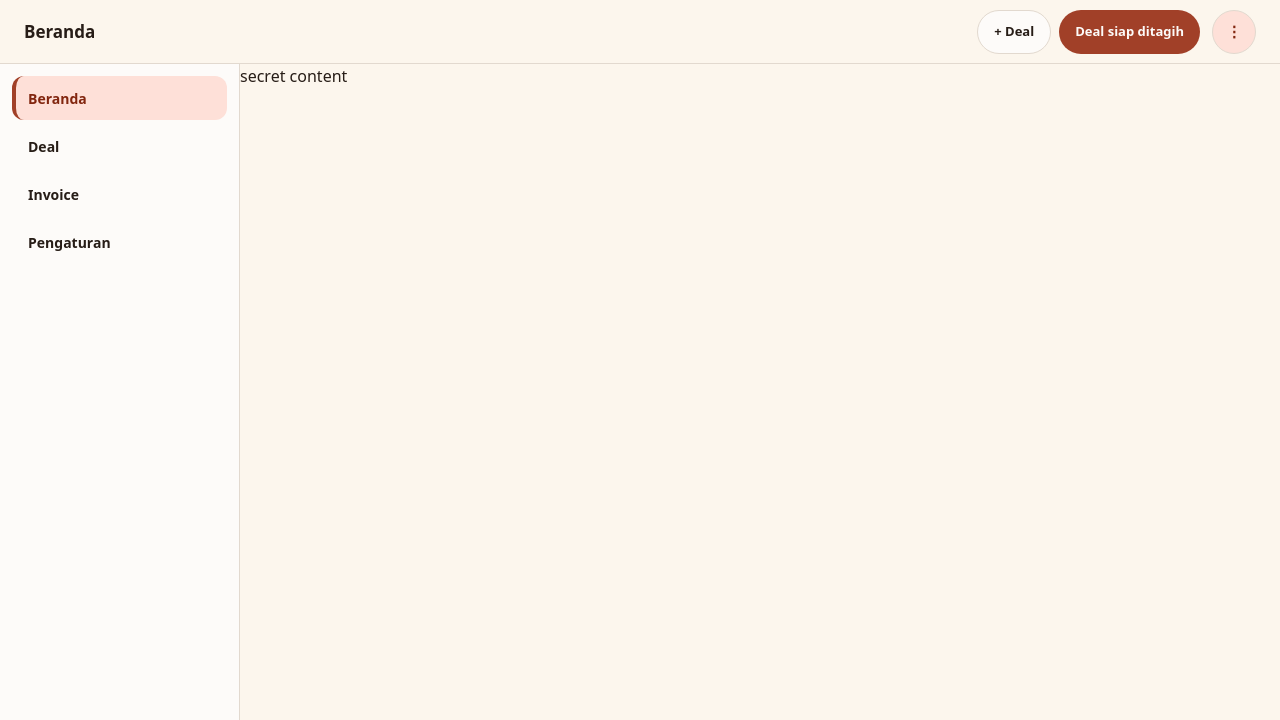
Scenario: (app) layout auth guard › passes the authenticated session's email to the shell's account menu
Click the button named "Menu akun" at (1234, 32), box x1=1212 y1=10 x2=1256 y2=54
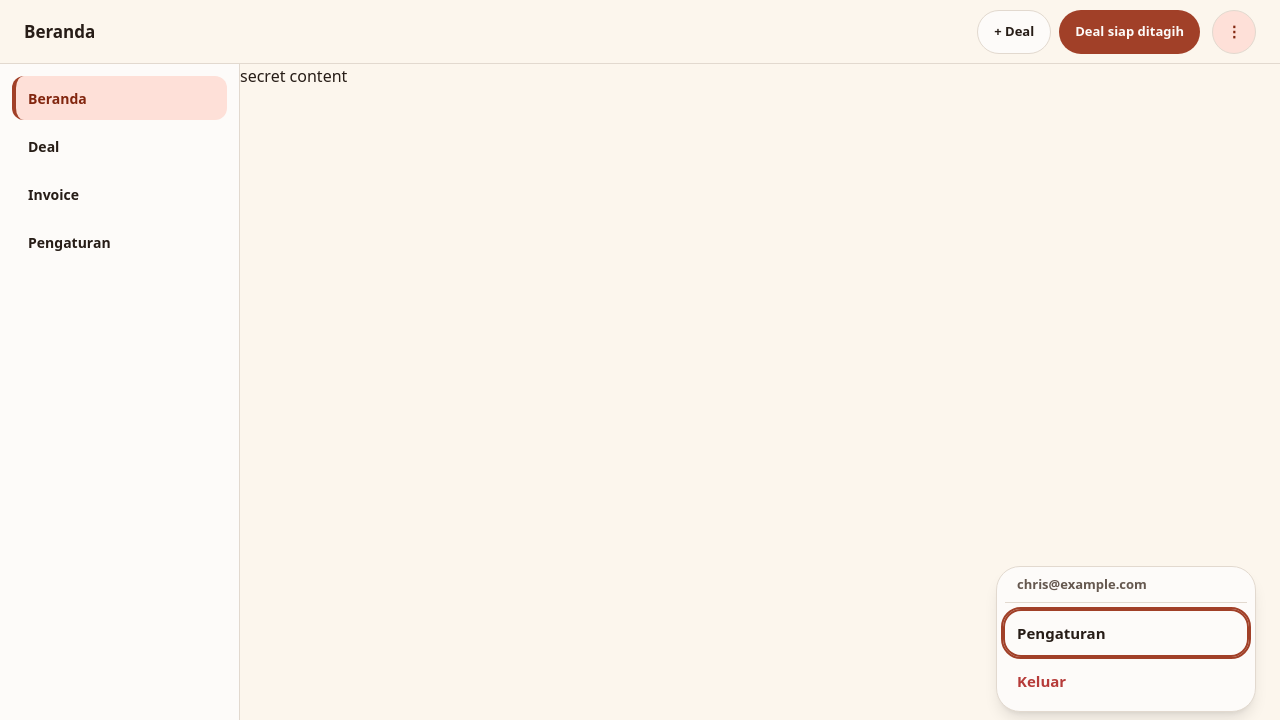
Result: the text "chris@example.com" is shown at x1=1017 y1=574 x2=1147 y2=592
